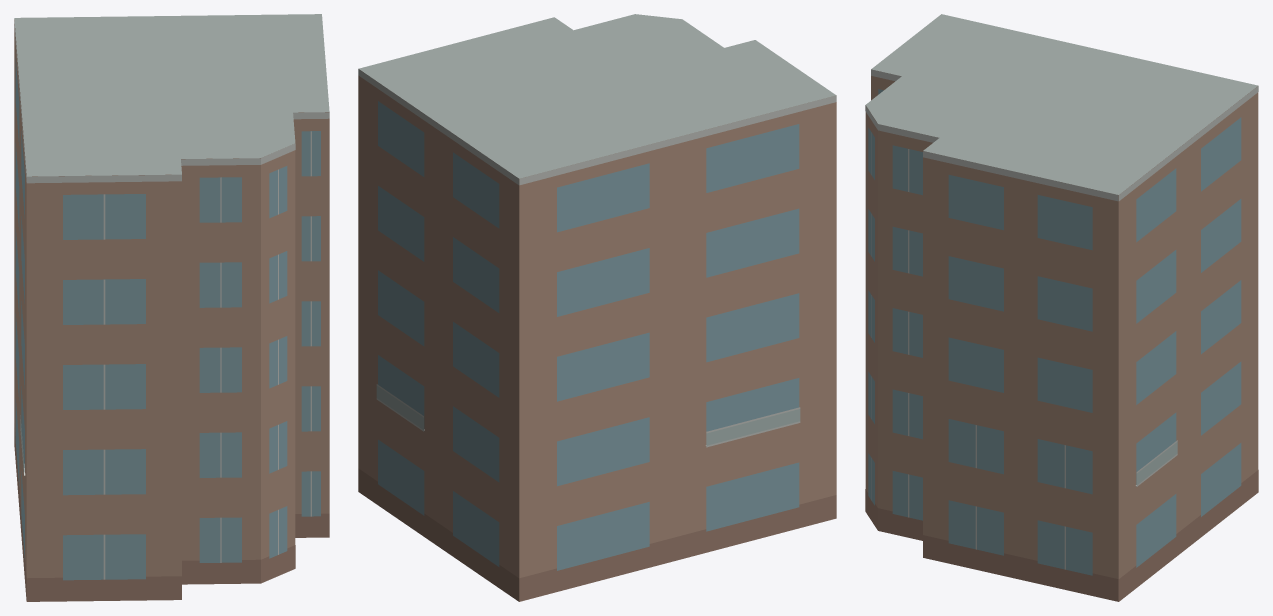
The model's file is survey-upis-32669206.glb.
The picture shows the model from 3 angles, left to right: view 1: azimuth 30°, elevation 25°; view 2: azimuth 150°, elevation 25°; view 3: azimuth 270°, elevation 25°; orthographic projection. The views are drawn at different scales.
Parts seen in each view (by area): view 1: survey-upis-32669206.tmp; view 2: survey-upis-32669206.tmp; view 3: survey-upis-32669206.tmp.
Part boxes in pixels (bbox=[...]): survey-upis-32669206.tmp: bbox=[14, 14, 329, 601]; survey-upis-32669206.tmp: bbox=[358, 14, 836, 601]; survey-upis-32669206.tmp: bbox=[865, 14, 1258, 601].
Size of the model in its own units: 14.71 by 15.4 by 13.49.
